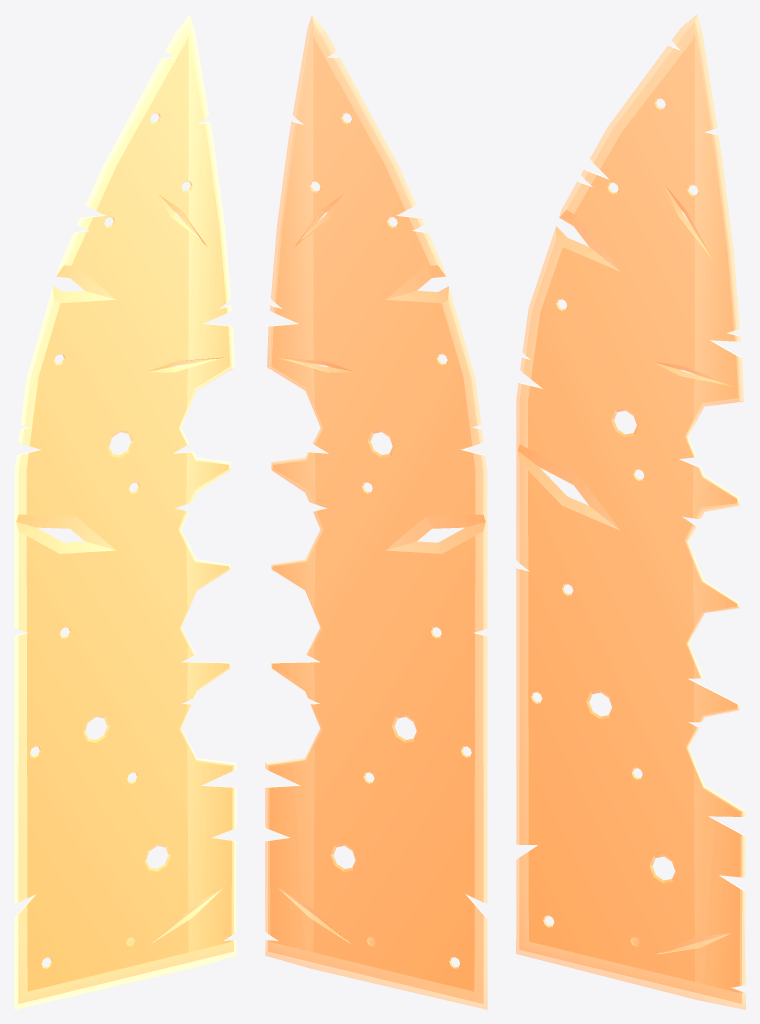
Rendered from wood_blade_bubbles_083.glb.
The picture shows the model from 3 angles, left to right: view 1: azimuth 30°, elevation 25°; view 2: azimuth 150°, elevation 25°; view 3: azimuth 330°, elevation 25°; orthographic projection. The views are drawn at different scales.
Parts seen in each view (by area): view 1: wood_blade_bubbles.083; view 2: wood_blade_bubbles.083; view 3: wood_blade_bubbles.083.
Boxes of the visible parts, x1,y1,x2,y2 form: wood_blade_bubbles.083: (14, 14, 236, 1009); wood_blade_bubbles.083: (265, 14, 487, 1009); wood_blade_bubbles.083: (516, 14, 745, 1009).
Bounding box in the file's own units: 2.79 × 11.43 × 0.0204.
Materials: 1 (1 with a texture image).
